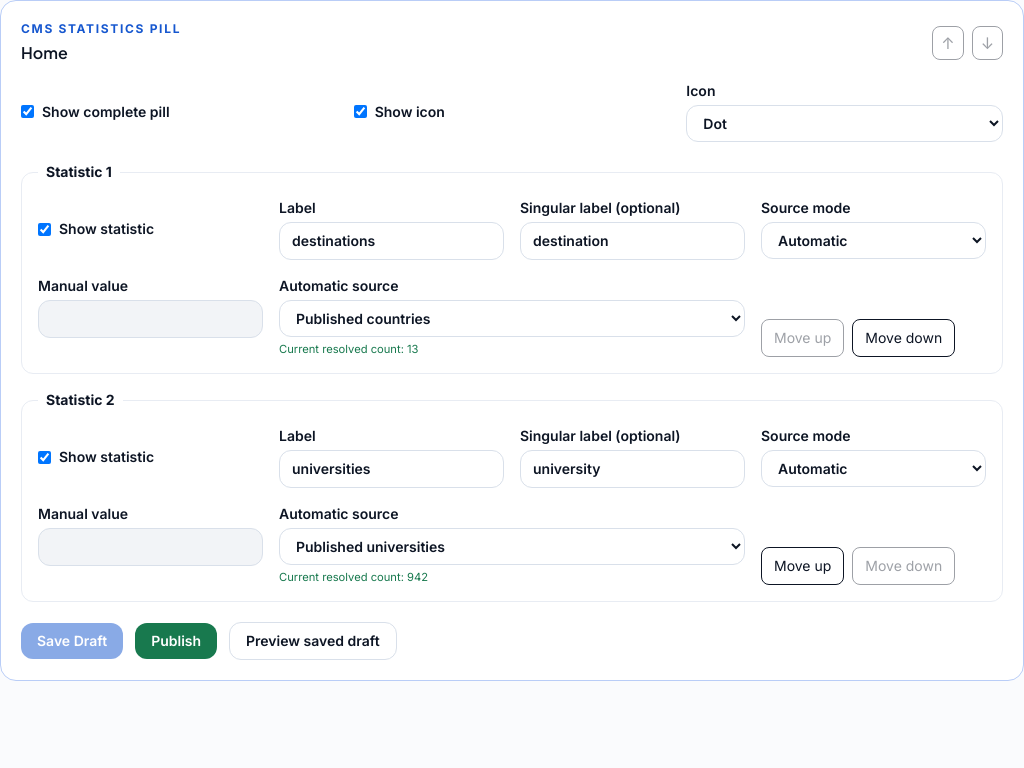
Test case: StatsPillEditor › edits Manual mode and saves only a draft with double-submit protection
Select "Manual override" in the 1st dropdown labelled "Source mode" at (874, 240), box [761,222,986,259]
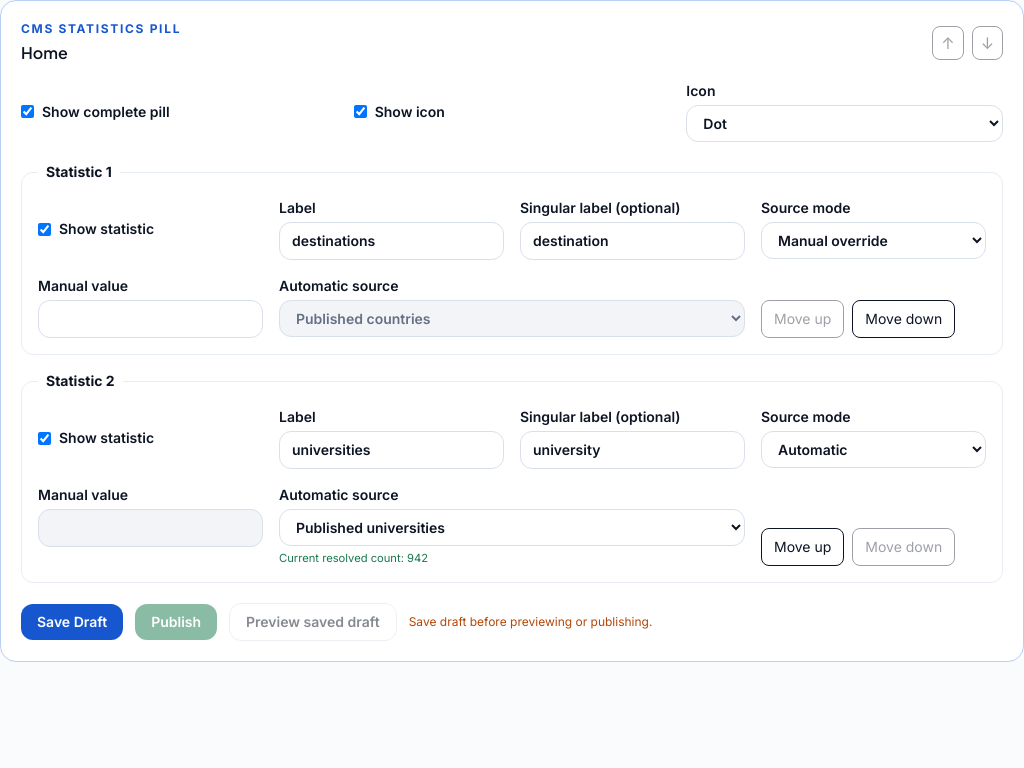
Type "25" into the 1st number field labelled "Manual value" at (150, 319), box [38,300,263,338]
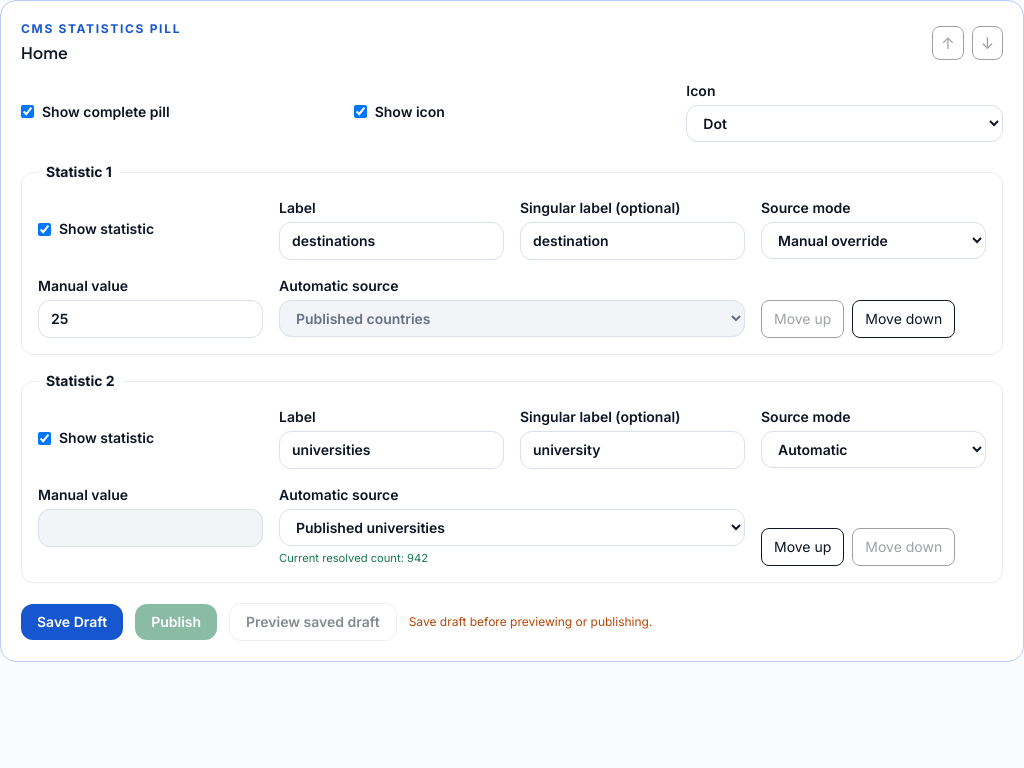
Replace the text in the 1st field showing "destinations" with "places" at (392, 241), box [279,222,504,260]
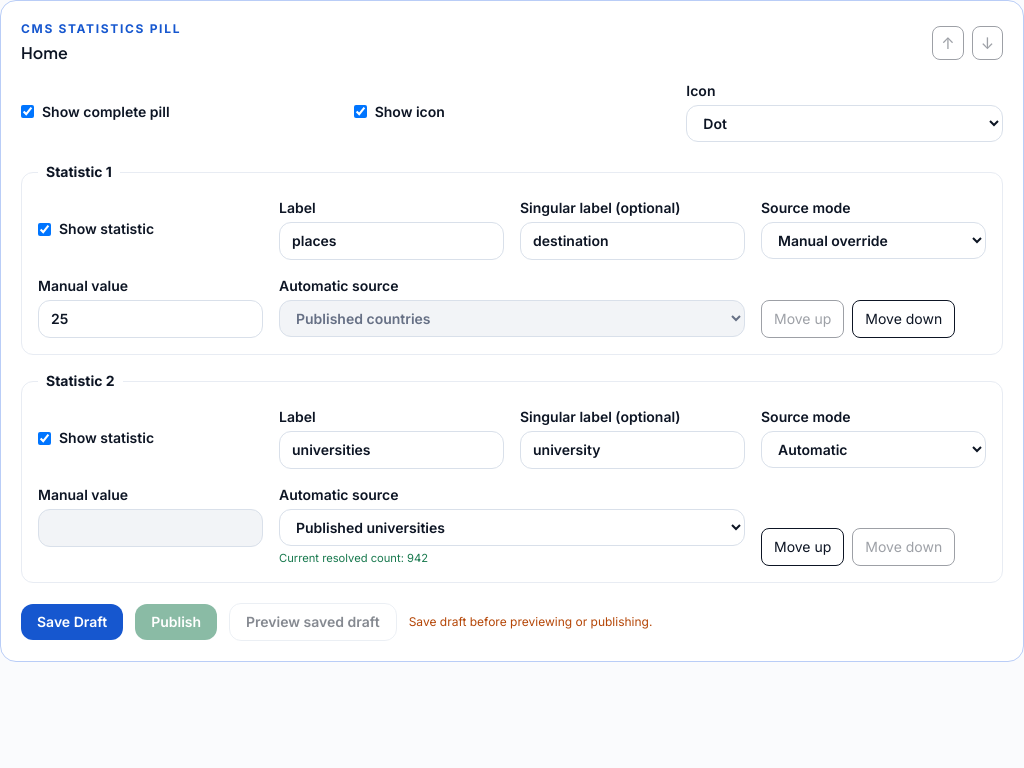
Click the button "Save Draft" at (72, 622), box [21,604,123,640]
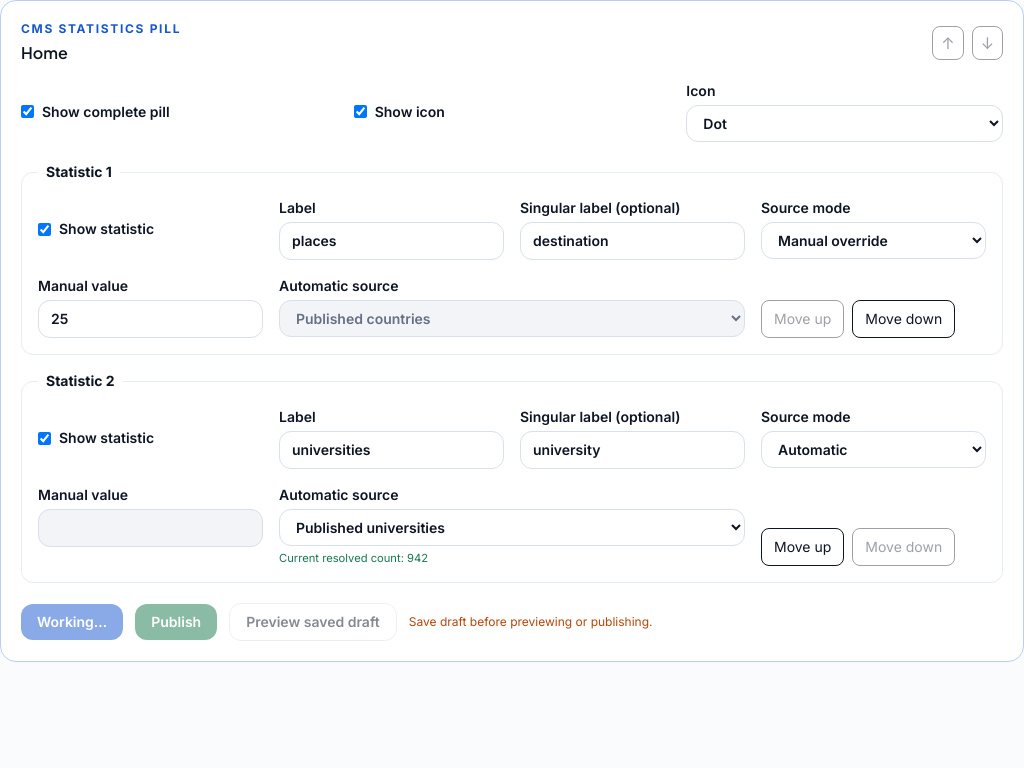
Click the button named "Save Draft" at (72, 622), box [21,604,123,640]
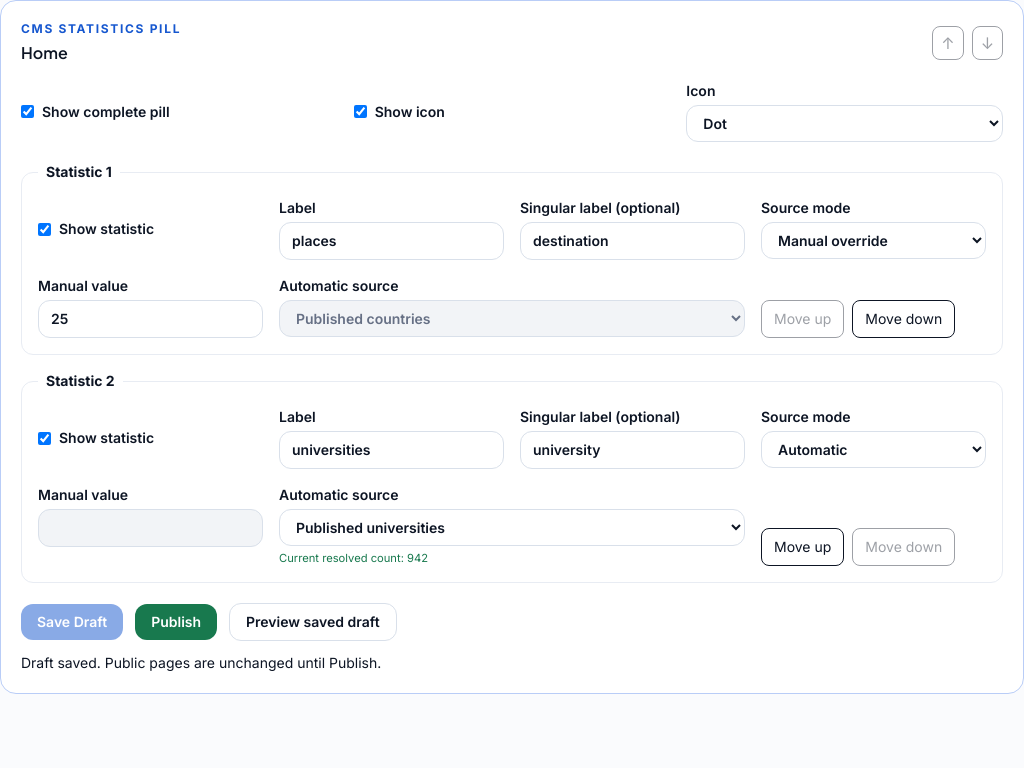
expect the text "Draft saved. Public pages are unchanged until Publish." is shown: met, box [21,654,381,671]
